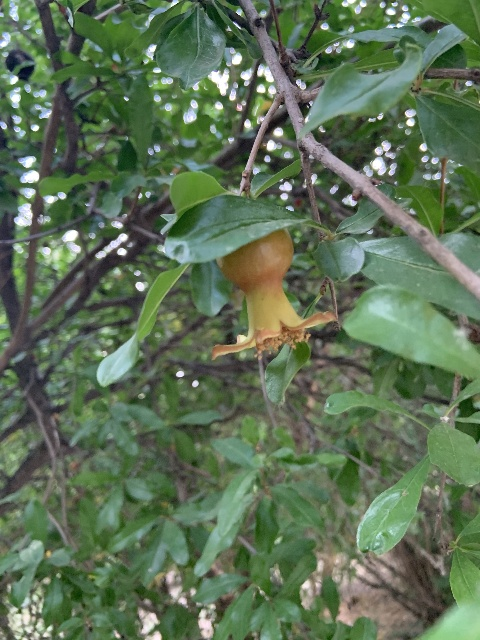early-fruit: (210, 228, 337, 360)
